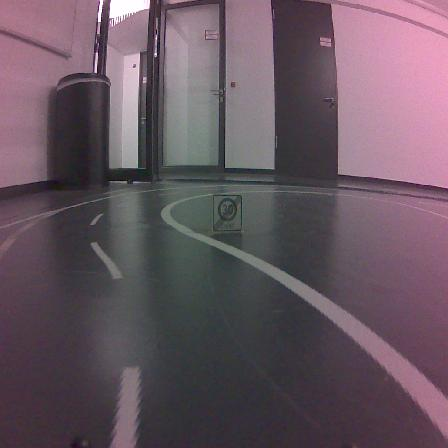30_ZONE_END: (212, 194, 243, 232)
